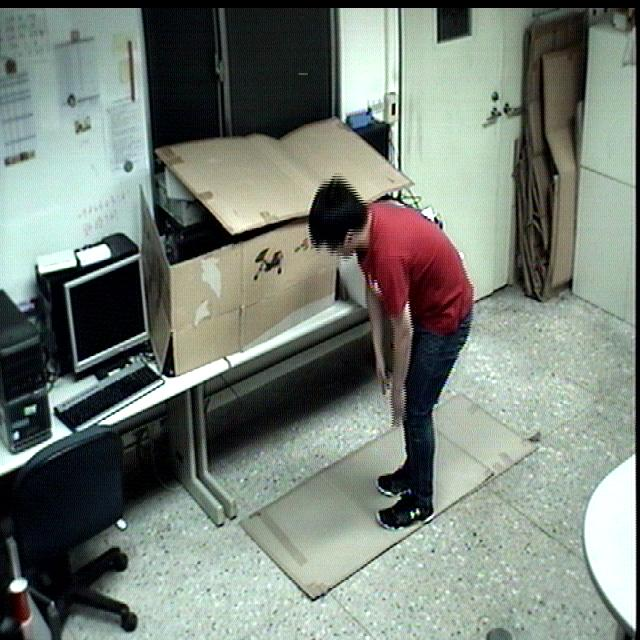bend: (304, 169, 478, 538)
